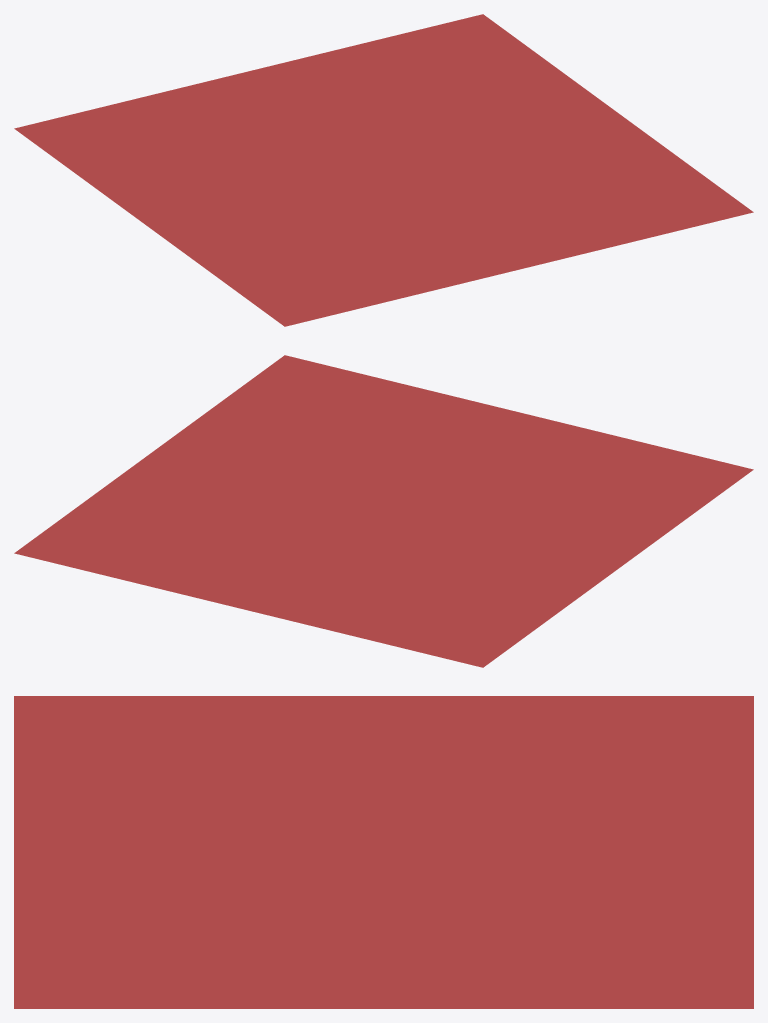
File: 2f_floor_nevi.FBX
The picture shows the model from 3 angles, top to bottom: view 1: azimuth 30°, elevation 25°; view 2: azimuth 150°, elevation 25°; view 3: azimuth 270°, elevation 25°; orthographic projection. The views are drawn at different scales.
Parts seen in each view (by area): view 1: 2f_floor_nevi; view 2: 2f_floor_nevi; view 3: 2f_floor_nevi.
Boxes of the visible parts, left/top/right/bottom form: 2f_floor_nevi: left=14, top=14, right=753, bottom=326; 2f_floor_nevi: left=14, top=355, right=753, bottom=667; 2f_floor_nevi: left=14, top=696, right=753, bottom=1008.
Bounding box in the file's own units: 645 × 5.68e-14 × 645.
